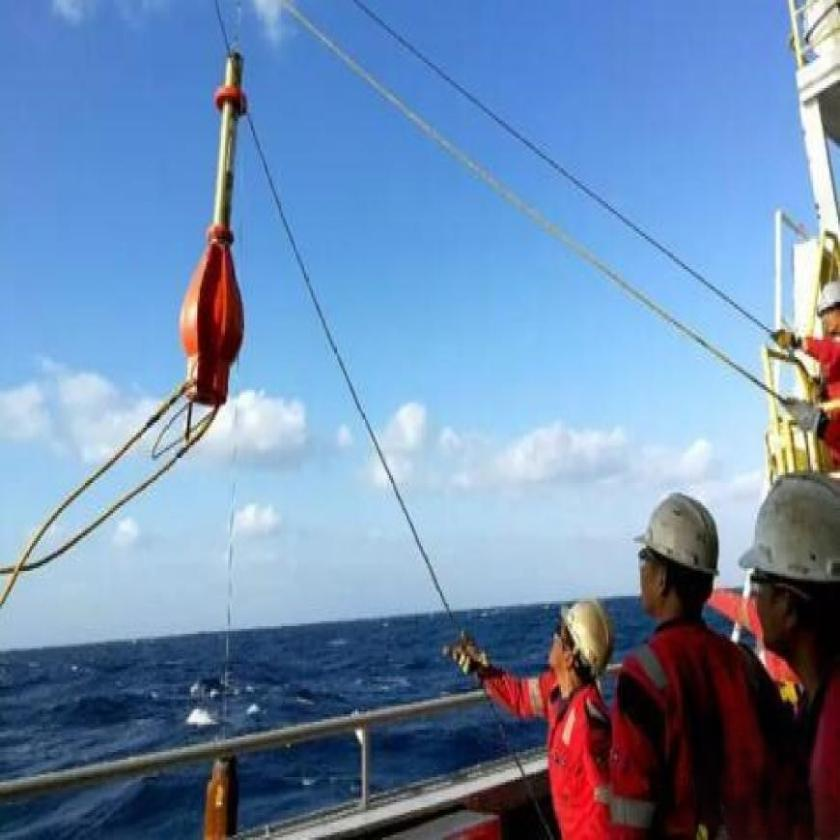Con_casco: (739, 463, 840, 662), (635, 487, 720, 626), (553, 590, 613, 692)
